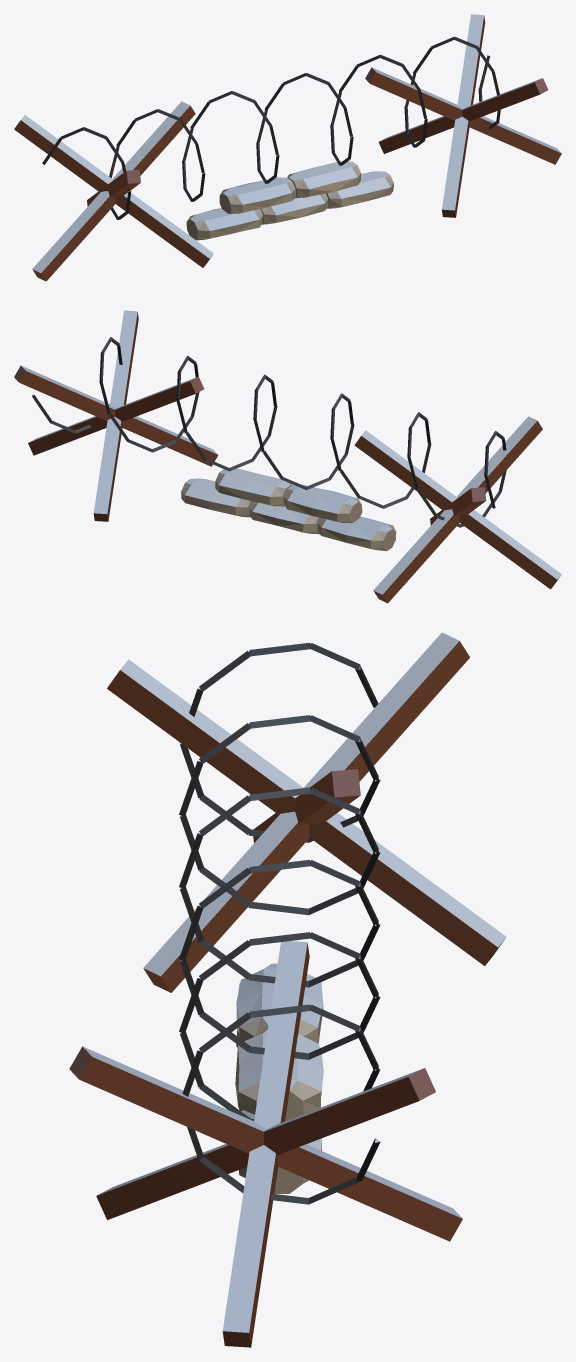
File: mil_barricade.glb
The picture shows the model from 3 angles, top to bottom: view 1: azimuth 30°, elevation 25°; view 2: azimuth 150°, elevation 25°; view 3: azimuth 270°, elevation 25°; orthographic projection. The views are drawn at different scales.
Visible parts, largest first — view 1: Prop; view 2: Prop; view 3: Prop.
Boxes of the visible parts, x1,y1,x2,y2 form: Prop: (14,14,561,281); Prop: (14,310,561,603); Prop: (69,632,506,1347).
Size of the model in its own units: 4.42 by 1.08 by 1.62.
